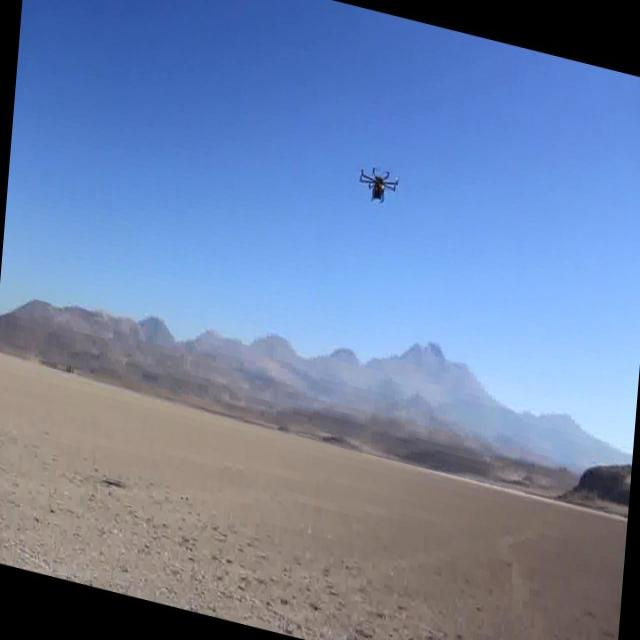drone: (354, 159, 400, 212)
